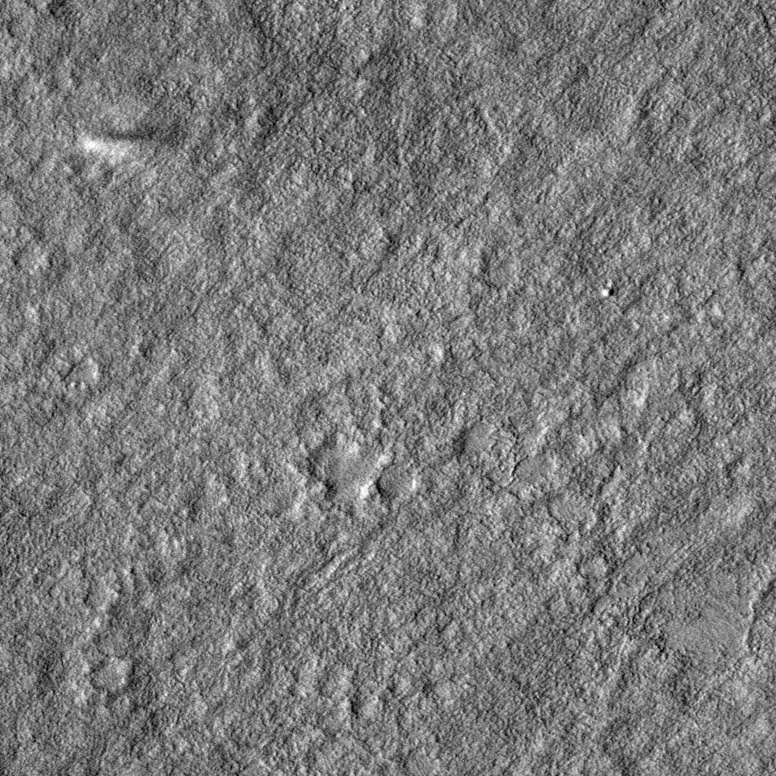dust_devil: (78, 125, 185, 165)
